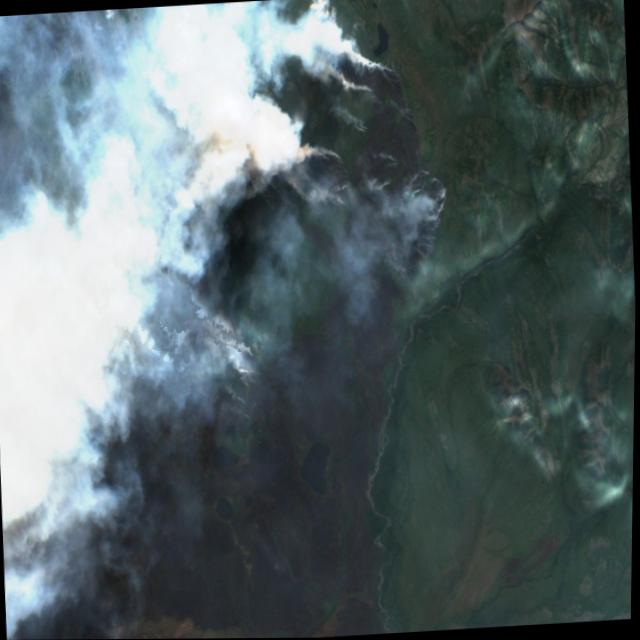fire: (245, 38, 460, 276), (214, 328, 272, 437)
